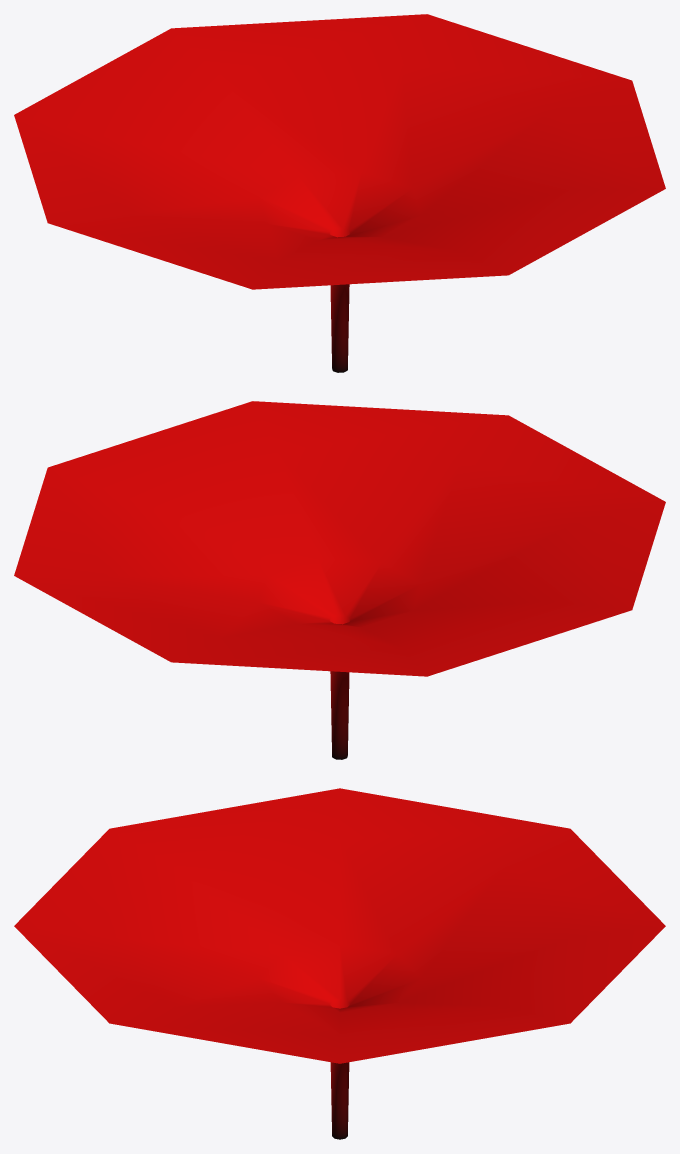
File: TabularCoral_Geo.fbx
3 renders of one model, top to bottom at view 1: azimuth 30°, elevation 25°; view 2: azimuth 150°, elevation 25°; view 3: azimuth 270°, elevation 25°, orthographic. The views are drawn at different scales.
Parts seen in each view (by area): view 1: TabularCoral_Geo; view 2: TabularCoral_Geo; view 3: TabularCoral_Geo.
Boxes of the visible parts, left/top/right/bottom form: TabularCoral_Geo: left=14, top=14, right=665, bottom=372; TabularCoral_Geo: left=14, top=401, right=665, bottom=759; TabularCoral_Geo: left=14, top=788, right=665, bottom=1139.
Bounding box in the file's own units: 4.13 × 1.47 × 4.13.
